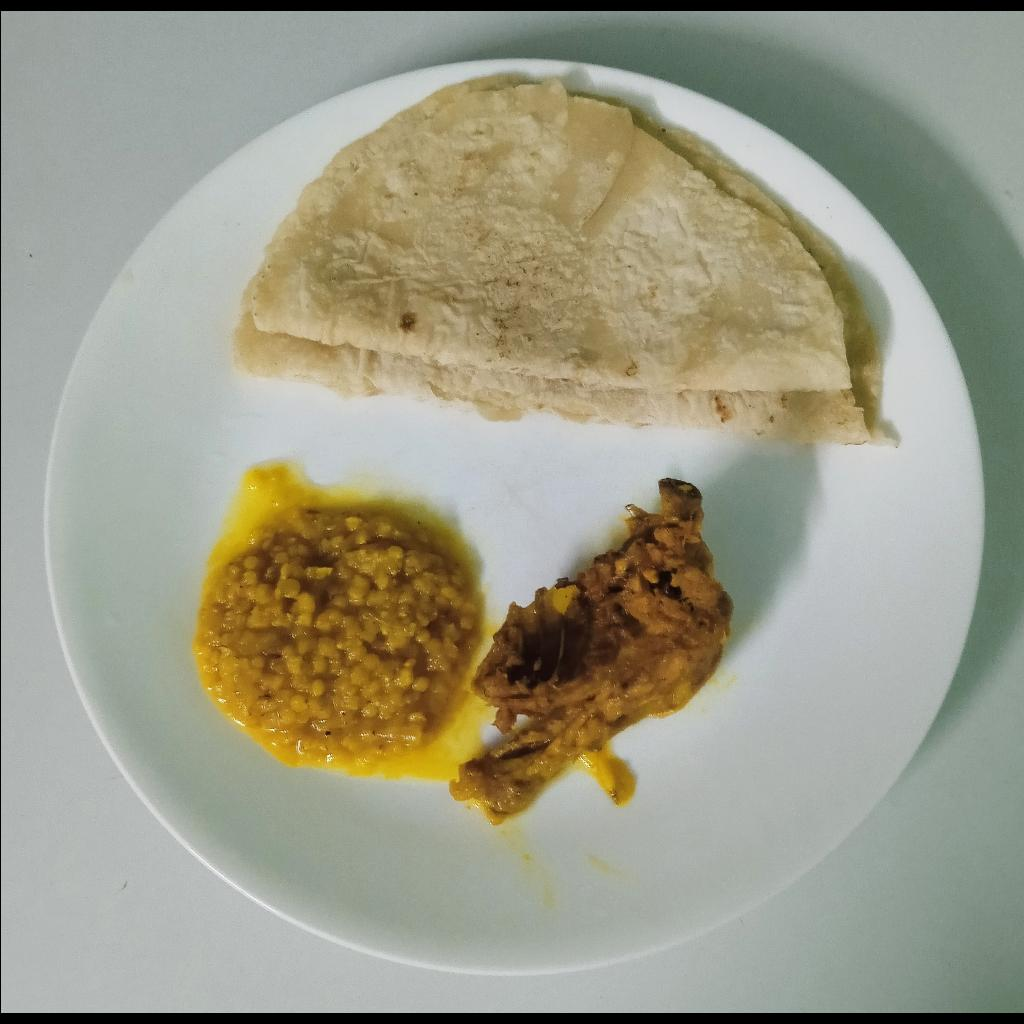chicken: (450, 479, 741, 823)
daal: (191, 514, 482, 771)
ruti: (229, 70, 891, 450)
